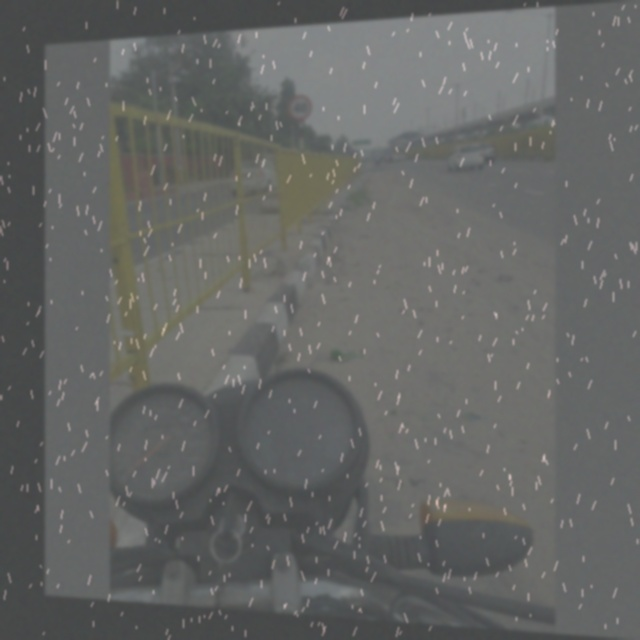Speed_Limit_40: (284, 90, 317, 124)
